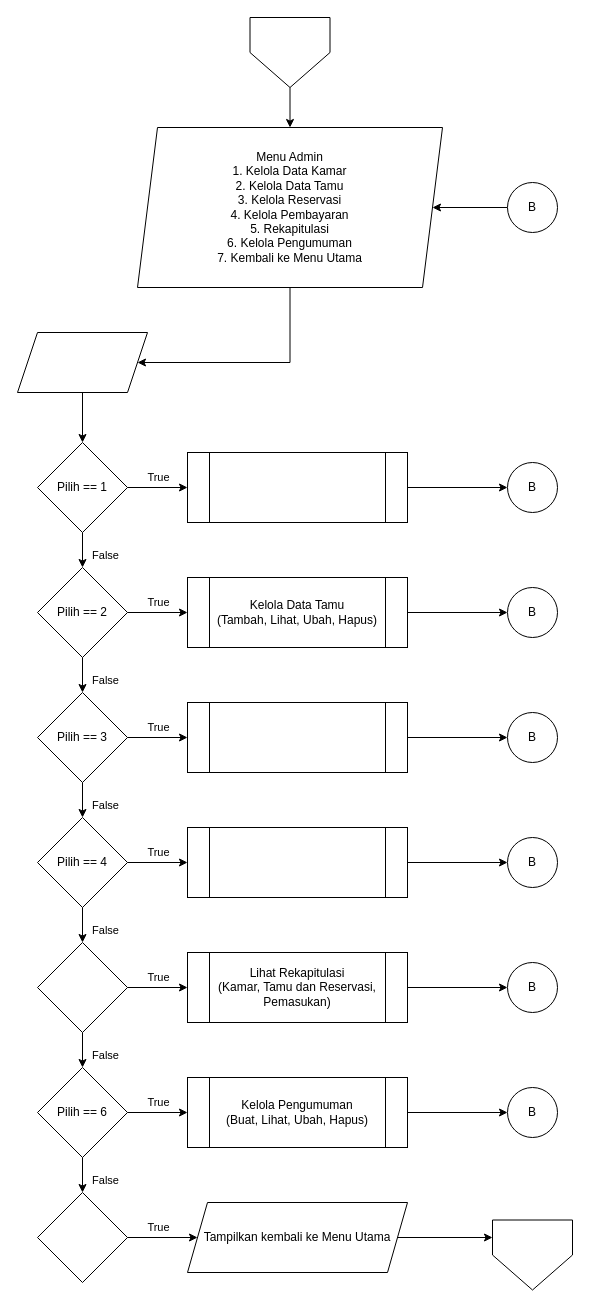
Image size: 590x1308. Some labels were removed from this diagram. Here are the shapes that lost their labels. From the top down, the box of each, then its label:
(249, 16, 330, 88): Menu Admin
(16, 332, 148, 392): Masukkan Pilihan
(186, 452, 408, 522): Kelola Data Kamar (Tambah, Lihat, Ubah, Hapus)
(186, 702, 408, 772): Kelola Reservasi (Tambah, Lihat, Ubah Status, Hapus)
(186, 826, 408, 898): Kelola Pembayaran (Lihat, Ubah Status Pelunasan)
(36, 942, 128, 1032): Pilih == 5
(36, 1192, 128, 1282): Pilih == 7
(492, 1219, 572, 1290): Menu Utama
